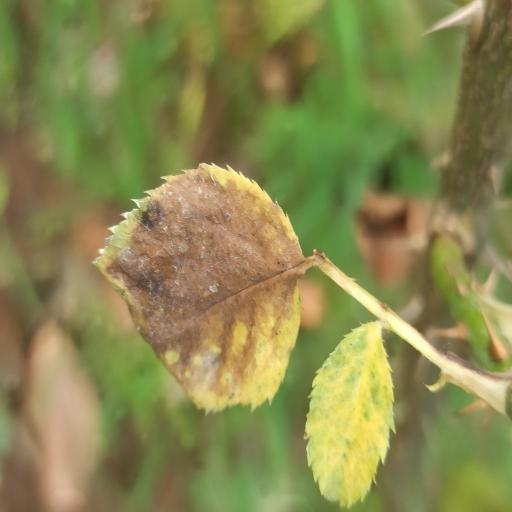thrip: (96, 164, 312, 410), (306, 322, 394, 506)
